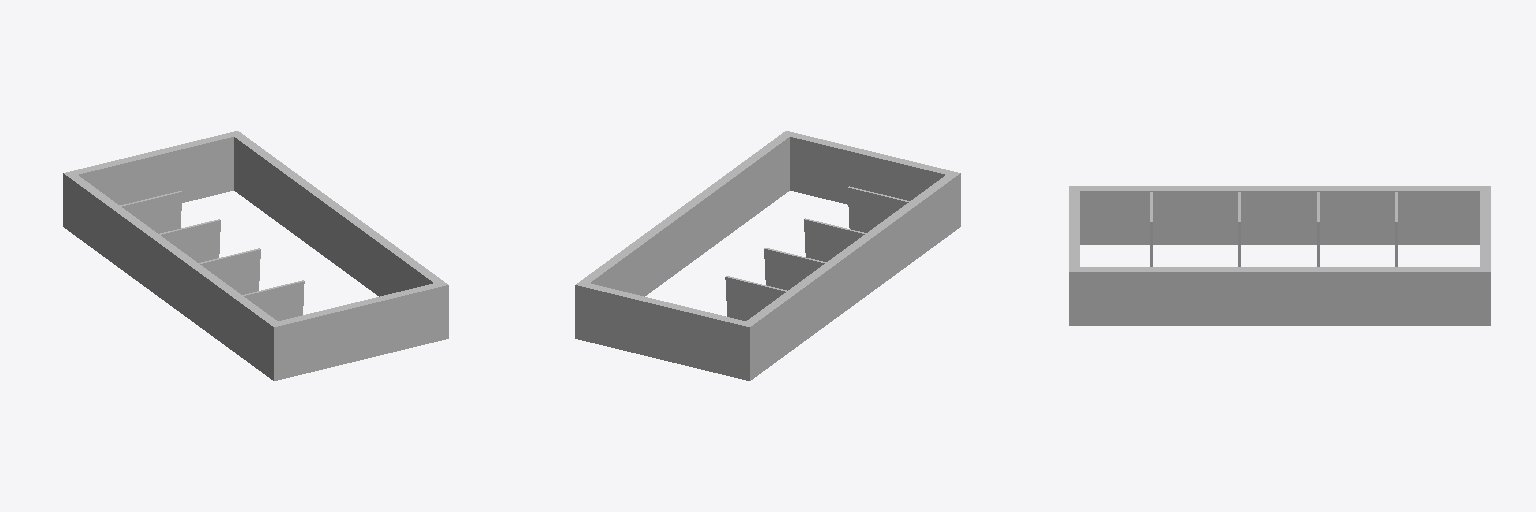
Rendered from wall.obj.
3 views of the same model, side by side, from view 1: azimuth 30°, elevation 25°; view 2: azimuth 150°, elevation 25°; view 3: azimuth 270°, elevation 25° (orthographic).
Parts seen in each view (by area): view 1: Cube_Cube.001, Plane.001_Plane.004, Plane.002_Plane.005, Plane.004_Plane.007, Plane_Plane.002; view 2: Cube_Cube.001, Plane_Plane.002, Plane.004_Plane.007, Plane.001_Plane.004, Plane.002_Plane.005; view 3: Cube_Cube.001.
Boxes of the visible parts, box(x1,y1,x2,y2) form: Cube_Cube.001: box(63, 131, 448, 380); Plane.001_Plane.004: box(199, 248, 260, 294); Plane.002_Plane.005: box(159, 219, 220, 262); Plane.004_Plane.007: box(120, 191, 181, 233); Plane_Plane.002: box(243, 280, 304, 320); Cube_Cube.001: box(575, 131, 960, 380); Plane_Plane.002: box(848, 186, 909, 232); Plane.004_Plane.007: box(725, 276, 786, 320); Plane.001_Plane.004: box(804, 218, 865, 261); Plane.002_Plane.005: box(764, 248, 826, 290); Cube_Cube.001: box(1069, 186, 1490, 325).
Bounding box in the file's own units: 10.78 × 3.18 × 22.54.